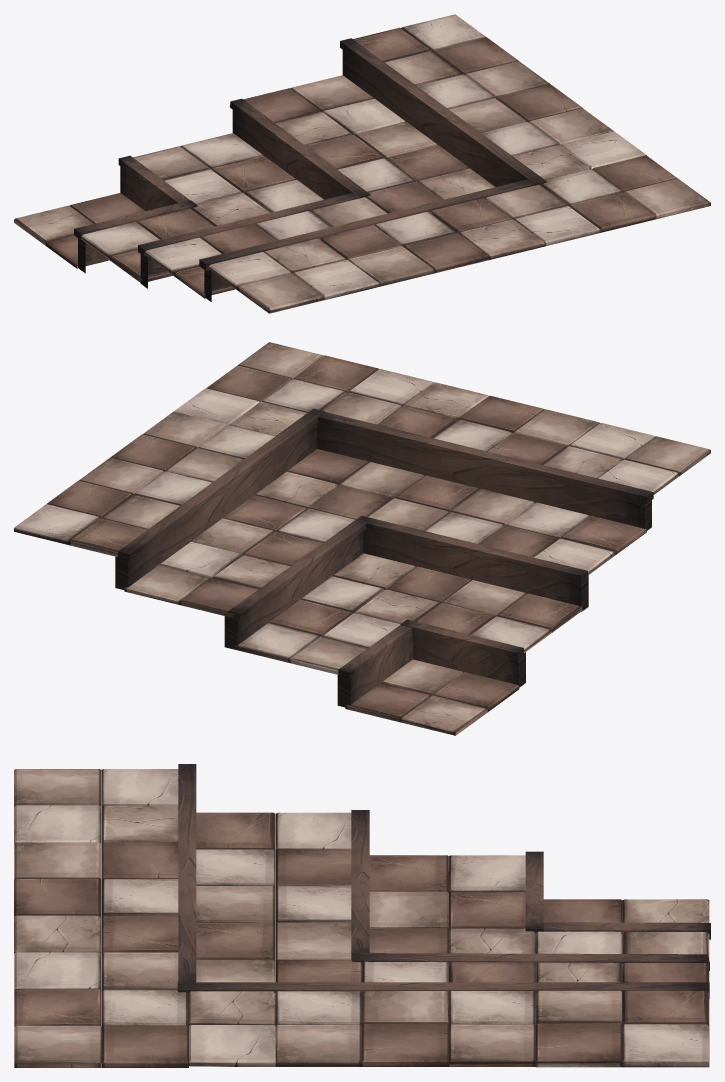
File: Floor_3_Steps_Corner.fbx
The picture shows the model from 3 angles, top to bottom: view 1: azimuth 30°, elevation 25°; view 2: azimuth 150°, elevation 25°; view 3: azimuth 270°, elevation 25°; orthographic projection. The views are drawn at different scales.
Parts seen in each view (by area): view 1: Floor_Stairs_3_Corner; view 2: Floor_Stairs_3_Corner; view 3: Floor_Stairs_3_Corner.
Part boxes in pixels (box(x1,y1,x2,y2)): Floor_Stairs_3_Corner: box(14, 14, 710, 313); Floor_Stairs_3_Corner: box(14, 342, 710, 735); Floor_Stairs_3_Corner: box(14, 764, 710, 1067).
Size of the model in its own units: 0.604 by 0.1325 by 0.602.
